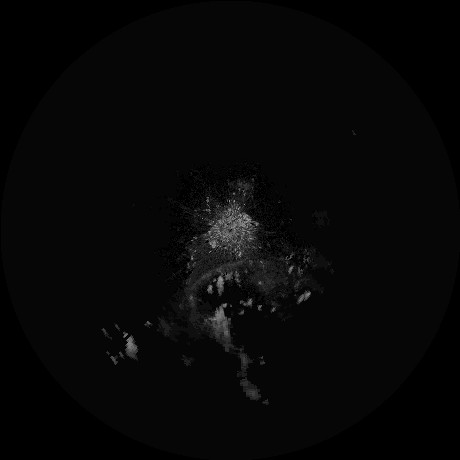frontgust: (190, 259, 244, 286)
